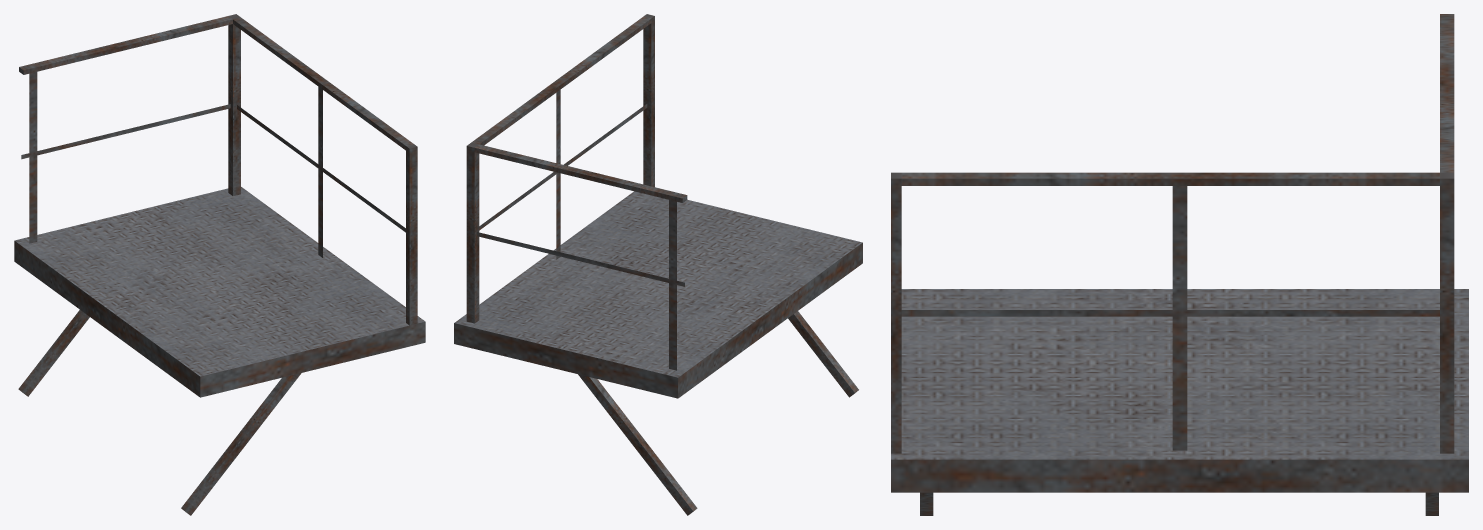
The model's file is mMetalCatwalkOneCnr01.fbx.
3 views of the same model, side by side, from view 1: azimuth 30°, elevation 25°; view 2: azimuth 150°, elevation 25°; view 3: azimuth 270°, elevation 25° (orthographic). The views are drawn at different scales.
Parts seen in each view (by area): view 1: MetalCatwalkOneCnr01; view 2: MetalCatwalkOneCnr01; view 3: MetalCatwalkOneCnr01.
Part boxes in pixels (x1,y1,x2,y2): MetalCatwalkOneCnr01: (14,14,425,515); MetalCatwalkOneCnr01: (454,14,862,515); MetalCatwalkOneCnr01: (891,14,1468,515).
Bounding box in the file's own units: 287 × 383 × 400.
